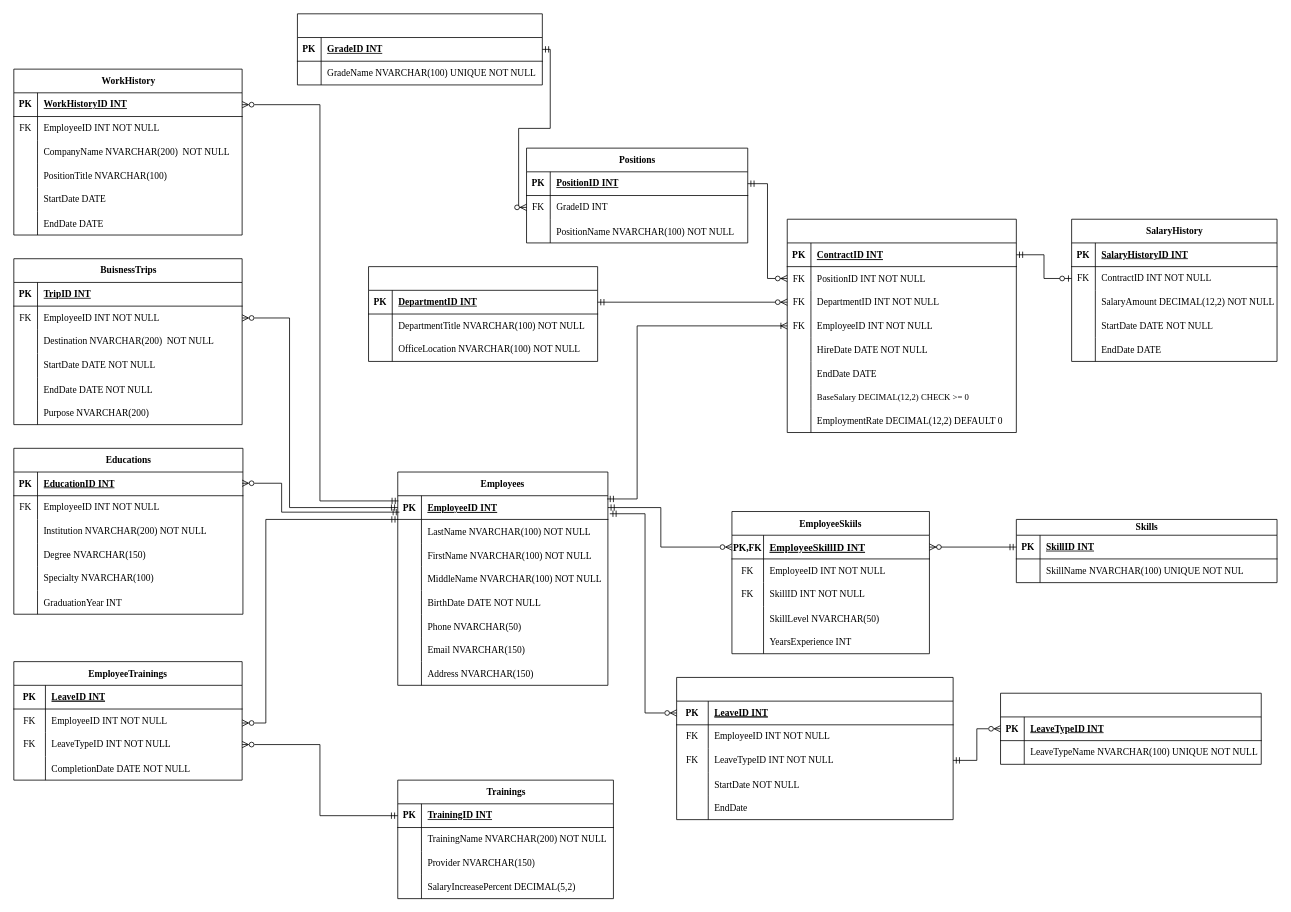
Image size: 1291x912. Some labels were removed from this diagram. Each missing label, with the box of its shape:
Departments: (368, 266, 598, 361)
EmployeeLeaves: (676, 677, 953, 820)
EmploymentContracts: (786, 218, 1016, 433)
JobGrades: (297, 13, 542, 85)
LeavesTypes: (1000, 692, 1261, 764)
